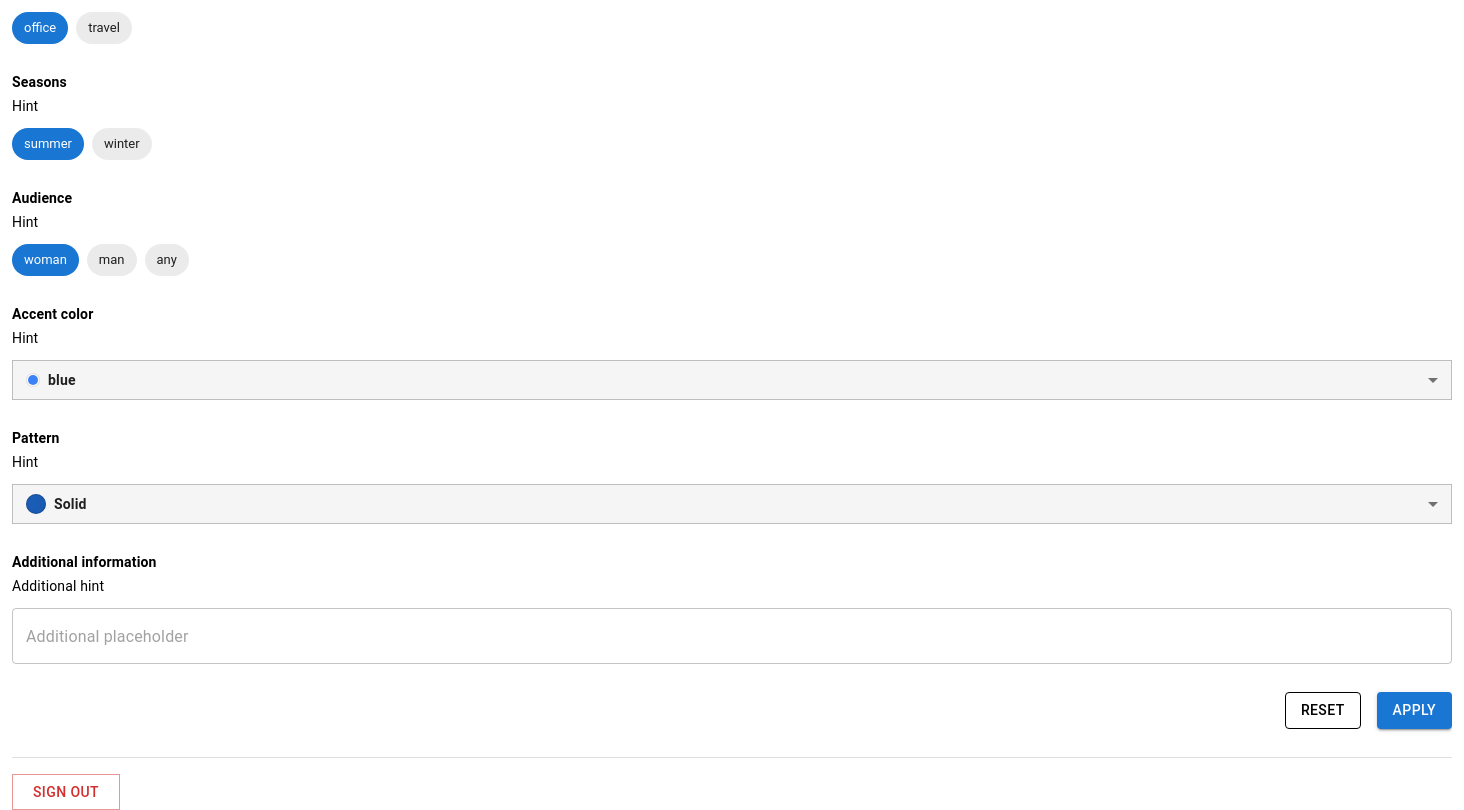
Test: ProfileFiltersSidebar › renders the full canonical pattern list in the sidebar
(page scrolled)
Click the dropdown named "Pattern" at (56, 504), box left=26, top=494, right=87, bottom=514
(page scrolled)
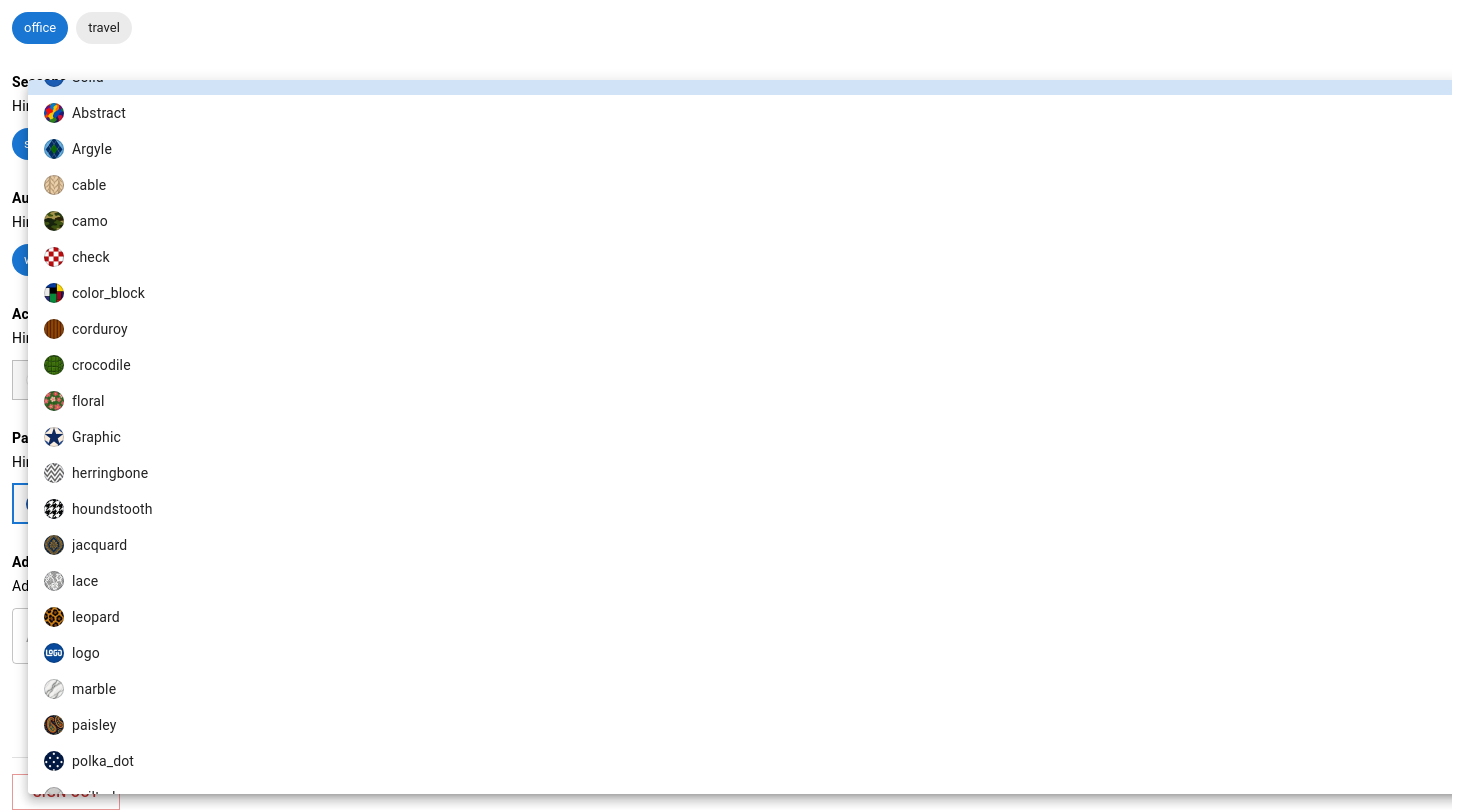
expect the option "Argyle" is shown: met, box left=44, top=139, right=112, bottom=159
expect the option "Graphic" is shown: met, box left=44, top=427, right=121, bottom=447
